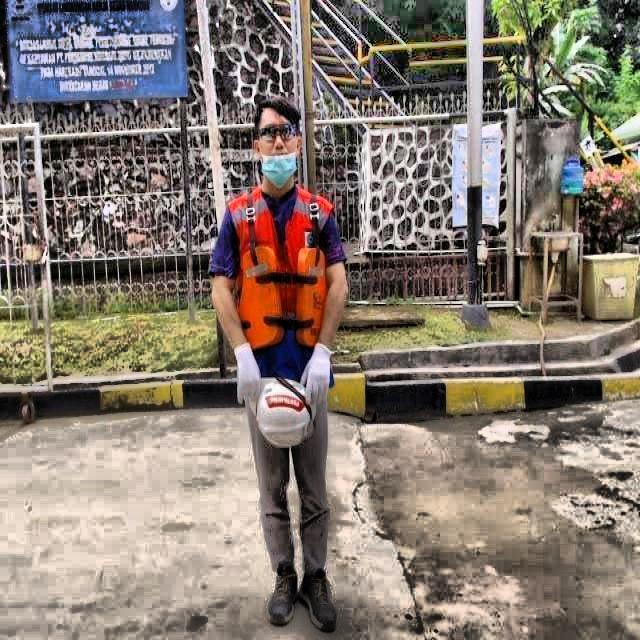safety_jacket: (230, 186, 335, 390)
